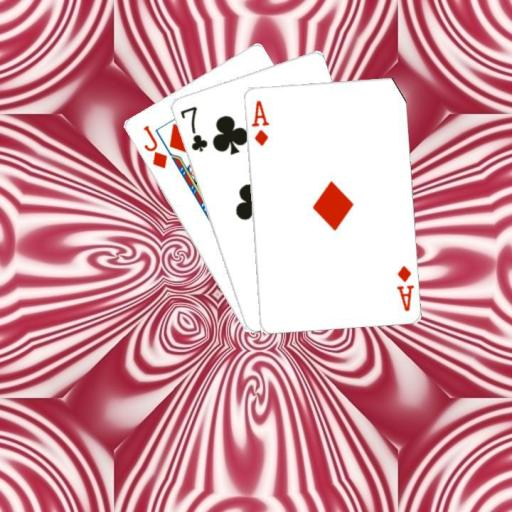7C: (176, 103, 209, 154)
AD: (248, 97, 270, 147), (393, 263, 415, 313)
JD: (140, 122, 169, 171)
